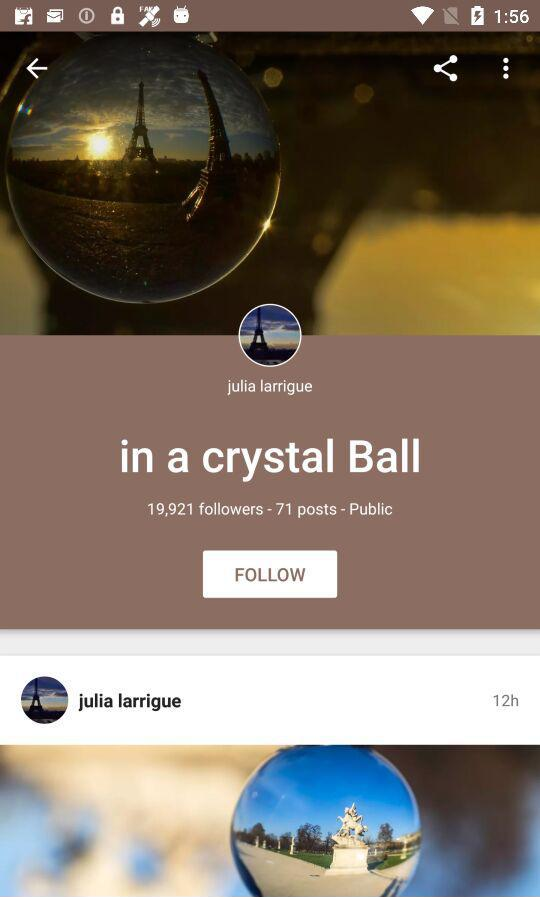Icon: (433, 55, 459, 83), (26, 58, 49, 81), (502, 58, 510, 81)
Image: (1, 33, 540, 336), (1, 745, 540, 897), (238, 303, 303, 369), (20, 675, 70, 726)
Text: (120, 437, 421, 485), (148, 502, 393, 519), (78, 692, 183, 712), (227, 378, 314, 397), (493, 691, 519, 711)
TextButton: (203, 550, 338, 599)
UpperTaskBar: (1, 1, 540, 33)
